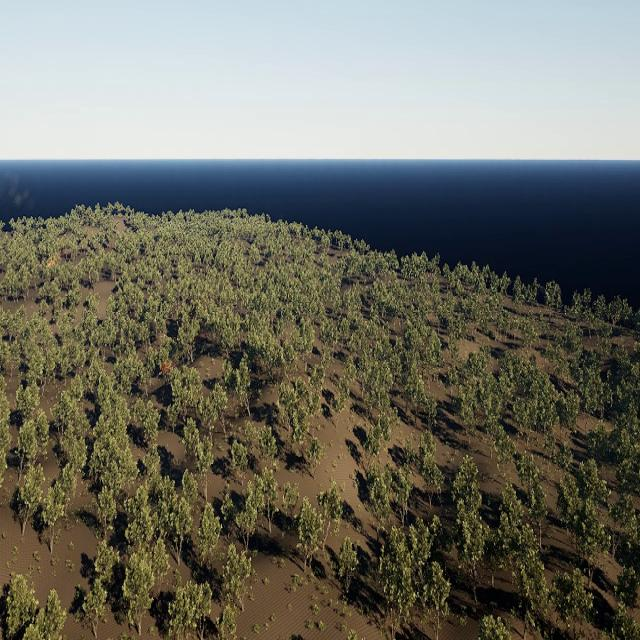fire: (163, 358, 174, 371)
